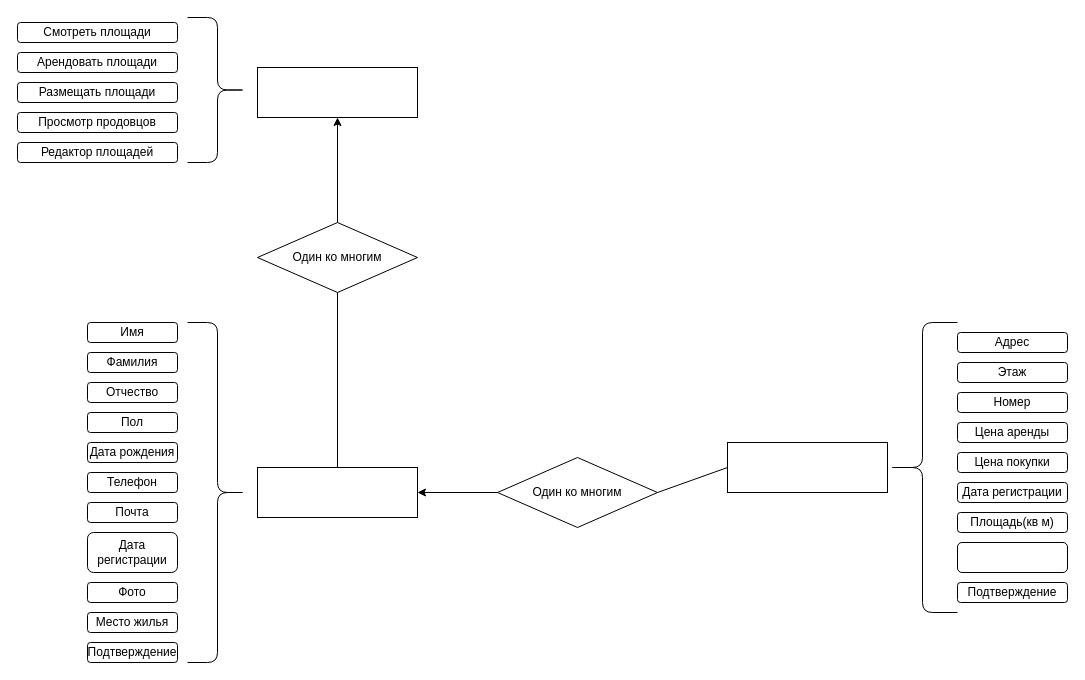
This 1085x680 diagram has some shape labels left out. The box of each missing label's shape, as (x1, y1, x2, y2) in pixels:
Наличие кондеционера: (956, 542, 1068, 572)
Площадь: (726, 442, 888, 492)
Пользователь: (256, 466, 418, 518)
Роль: (256, 66, 418, 118)
